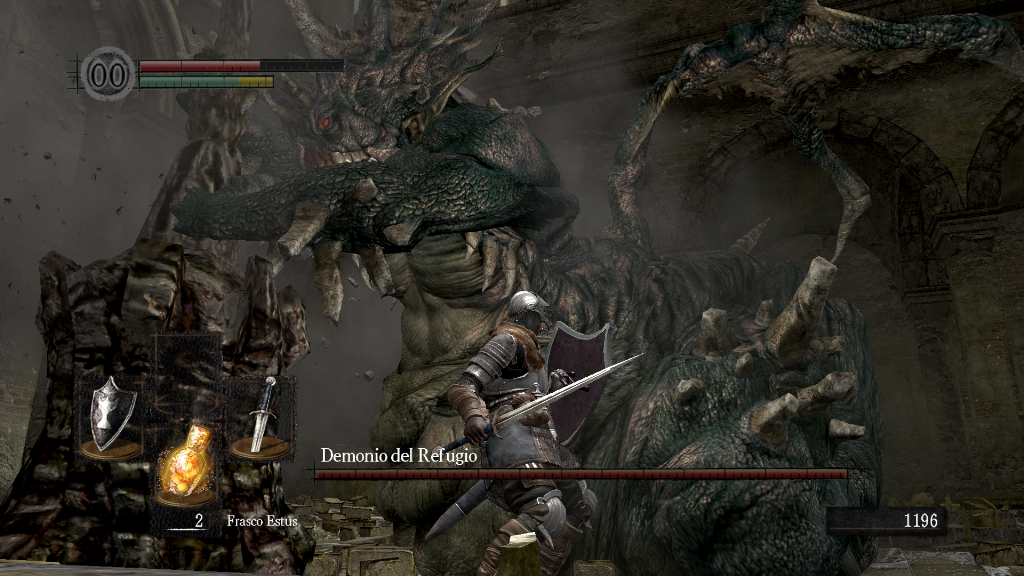asylumDemon: (2, 1, 889, 576)
bossHP: (314, 469, 847, 479)
health: (138, 58, 343, 71)
humanity: (80, 45, 136, 102)
player: (434, 288, 650, 576)
souls: (825, 506, 945, 536)
stamina: (138, 74, 274, 88)
